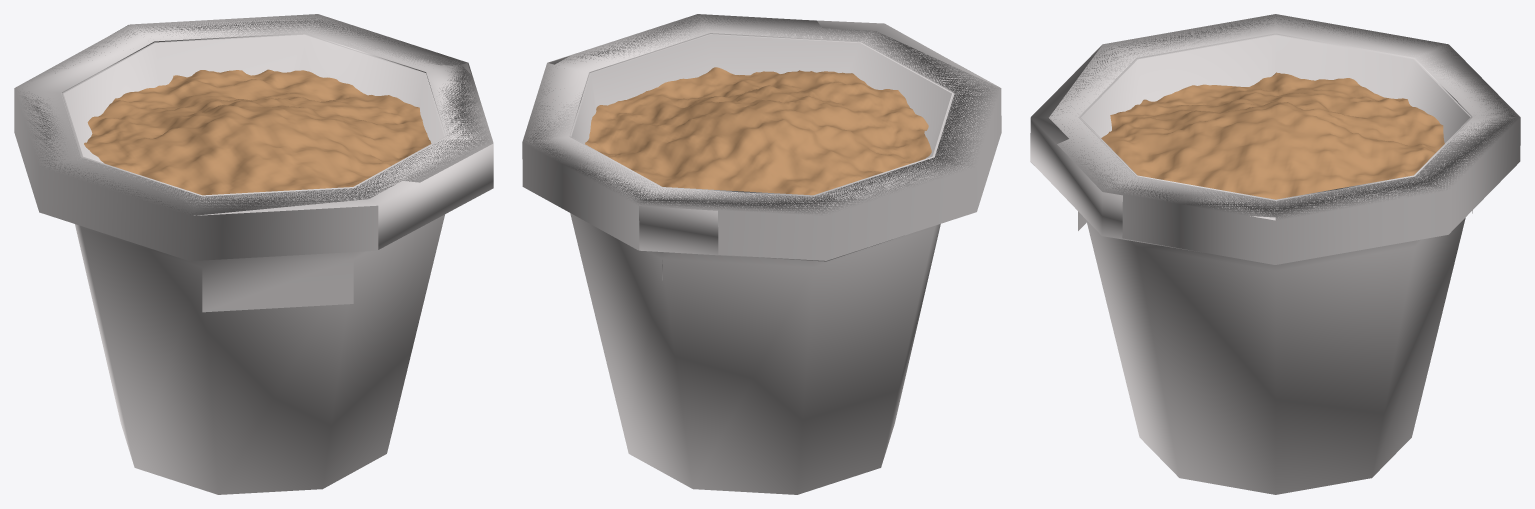
The model's file is Pot2_With_Soil.fbx.
3 renders of one model, left to right at view 1: azimuth 30°, elevation 25°; view 2: azimuth 150°, elevation 25°; view 3: azimuth 270°, elevation 25°, orthographic.
Parts seen in each view (by area): view 1: Pot, Circle; view 2: Pot, Circle; view 3: Pot, Circle.
Part boxes in pixels (x1=…): Pot: x1=14, y1=14, x2=493, y2=494; Circle: x1=84, y1=69, x2=431, y2=195; Pot: x1=522, y1=14, x2=1001, y2=494; Circle: x1=585, y1=67, x2=931, y2=195; Pot: x1=1030, y1=14, x2=1520, y2=494; Circle: x1=1101, y1=72, x2=1444, y2=199.
Size of the model in its own units: 474 by 343 by 474.
